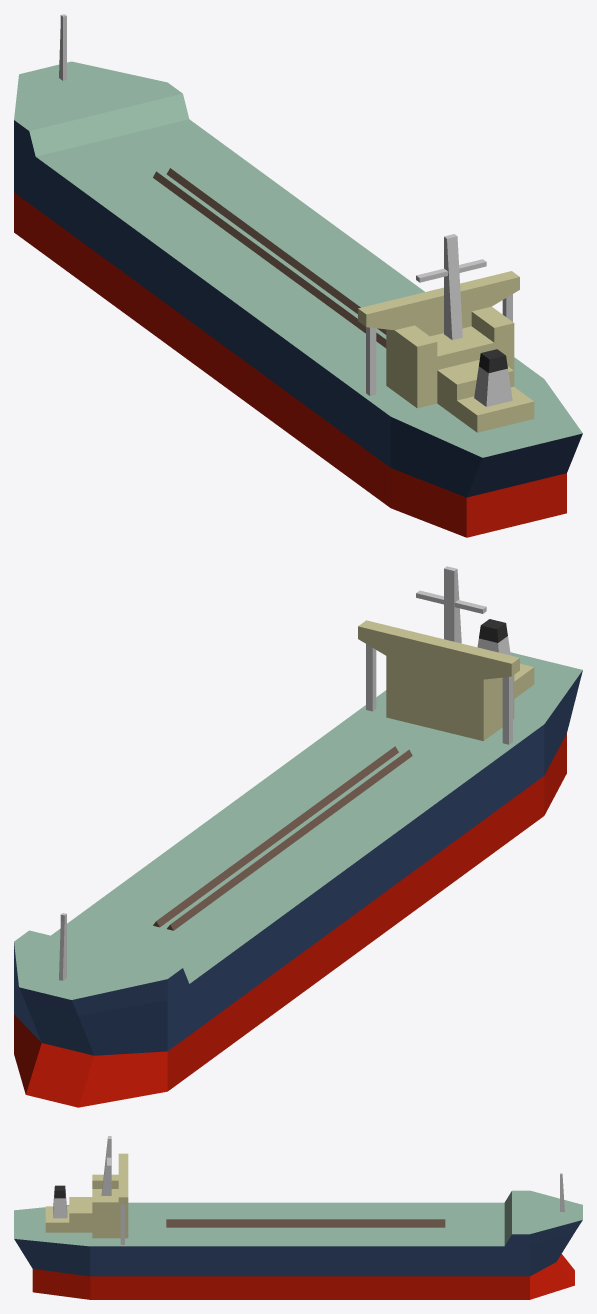
The model's file is icebreaker_02.fbx.
The picture shows the model from 3 angles, top to bottom: view 1: azimuth 30°, elevation 25°; view 2: azimuth 150°, elevation 25°; view 3: azimuth 270°, elevation 25°; orthographic projection. The views are drawn at different scales.
Parts seen in each view (by area): view 1: Icebreaker_02; view 2: Icebreaker_02; view 3: Icebreaker_02.
Part boxes in pixels (left/top/right/bottom): Icebreaker_02: left=14, top=14, right=582, bottom=537; Icebreaker_02: left=14, top=566, right=582, bottom=1107; Icebreaker_02: left=14, top=1136, right=582, bottom=1299.
Size of the model in its own units: 997 by 1492 by 5477.
